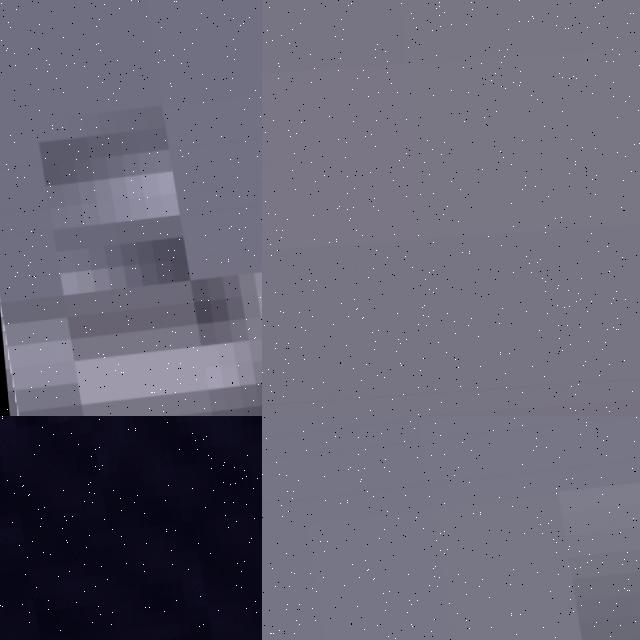0: (0, 0, 262, 416), (262, 416, 640, 640)
drone: (0, 416, 262, 640)
